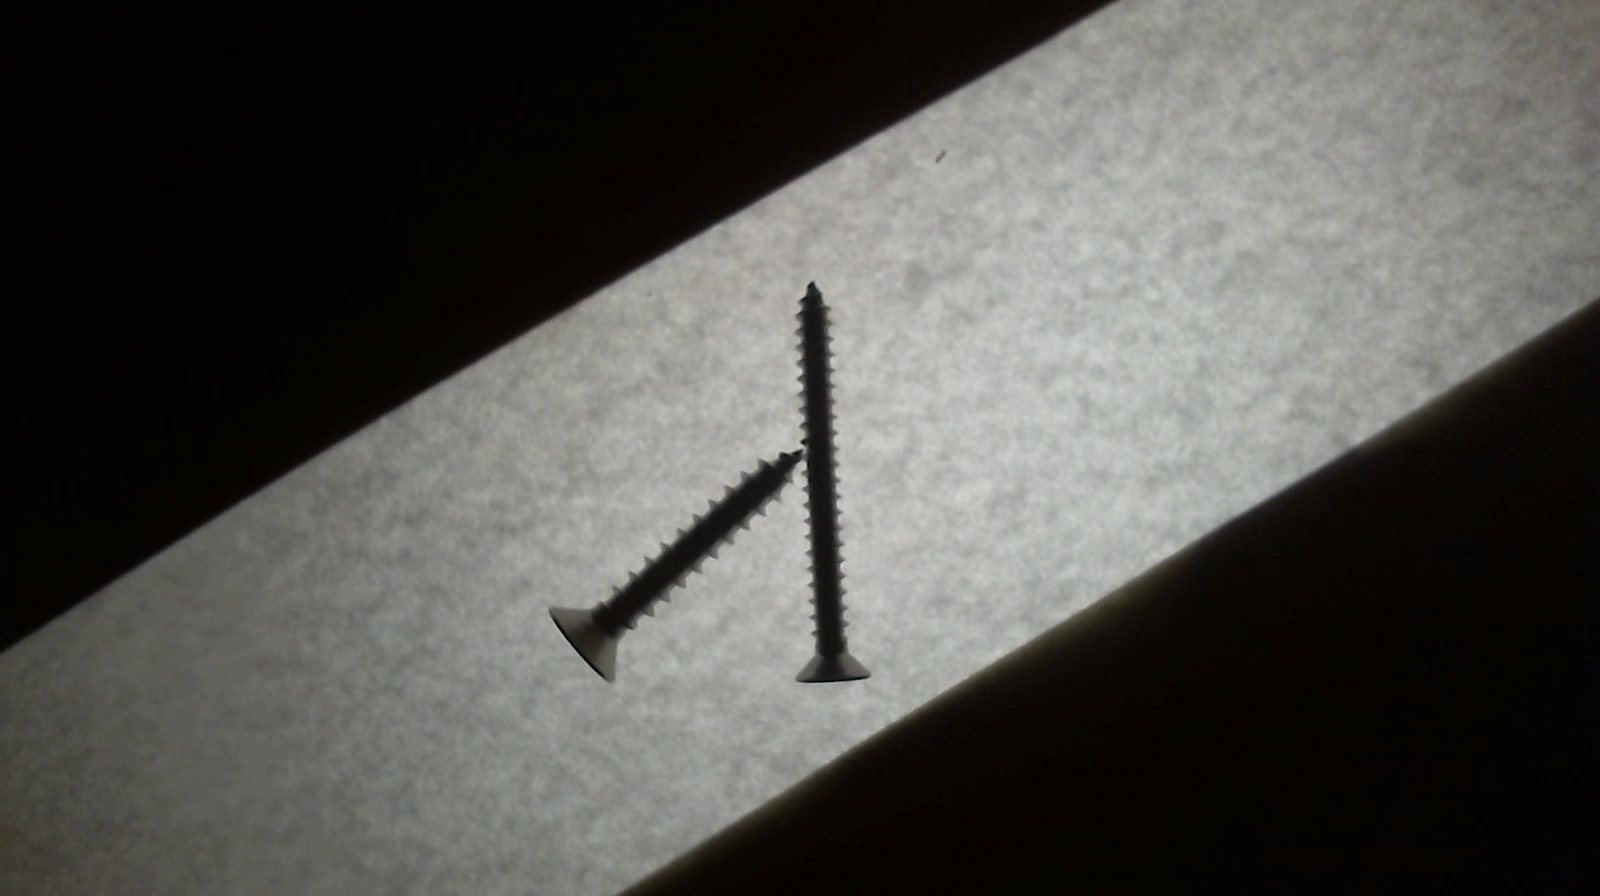S001: (538, 441, 803, 684)
S002: (792, 275, 884, 687)
